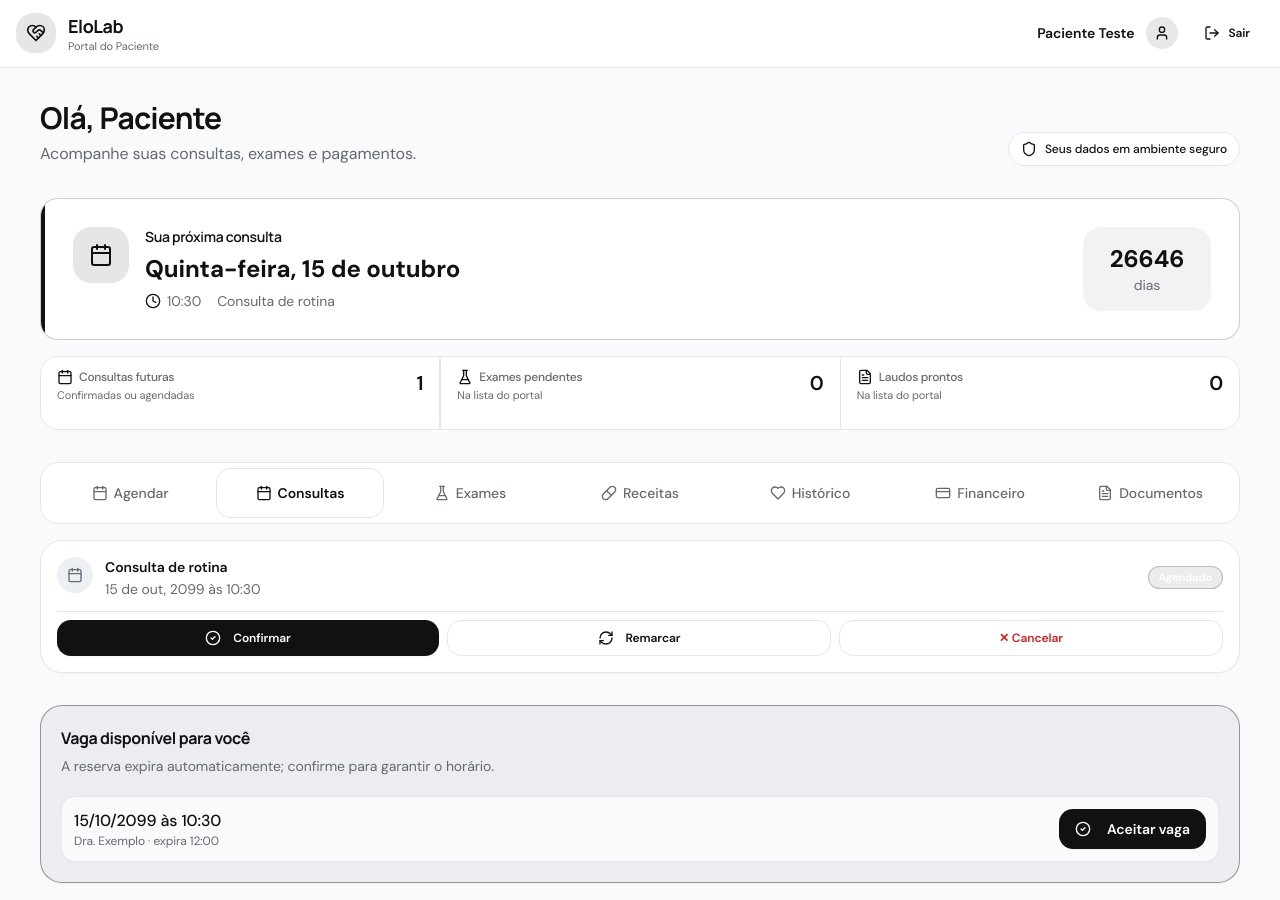
Scenario: PortalPaciente — cancelamento de consulta › informa quando a vaga já expirou e mantém a ação disponível
Click the button "Aceitar vaga" at (1132, 828), box [1059,808,1206,848]
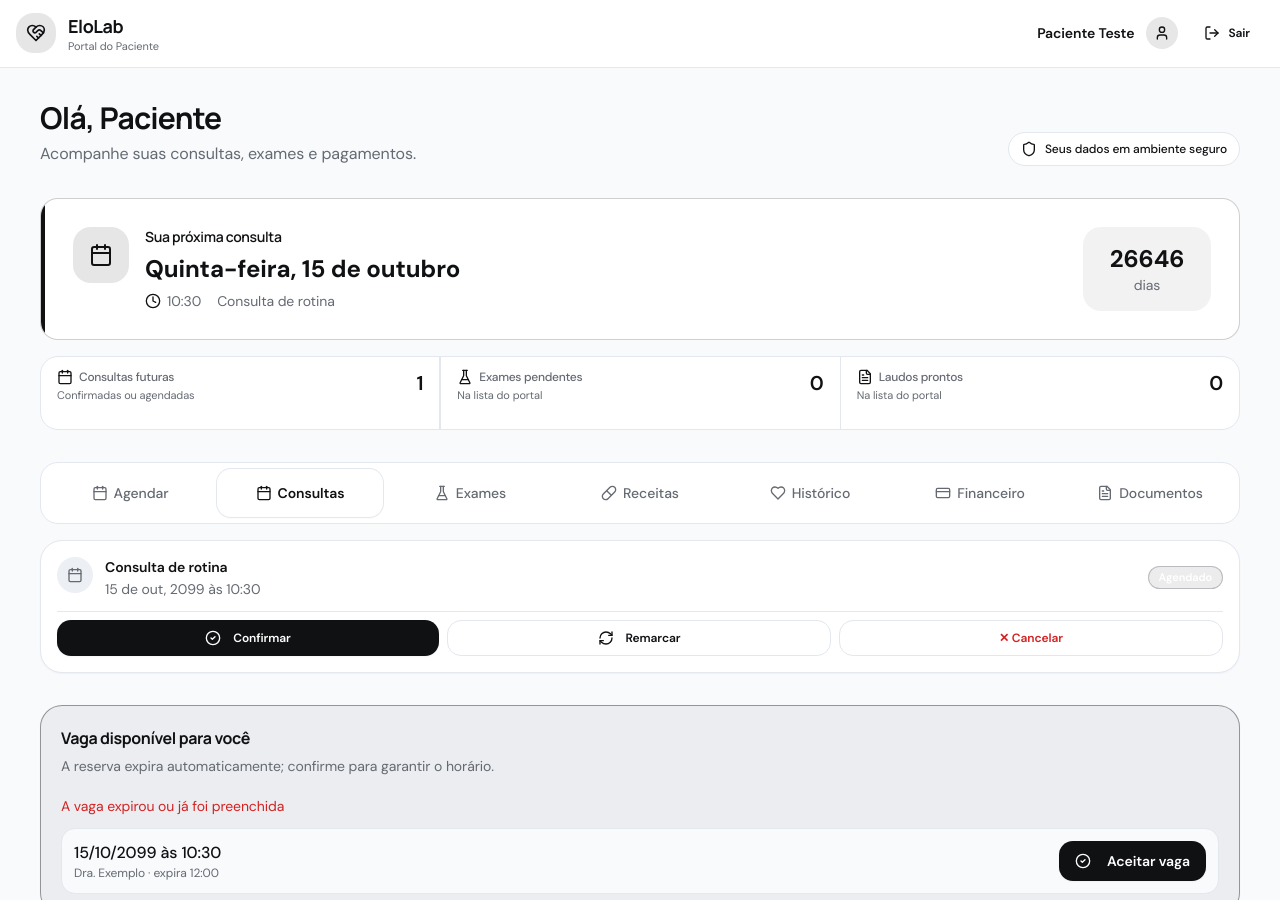
Expected: the button "Aceitar vaga" is enabled, [1059,840,1206,880]
Expected: the message reads "A vaga expirou ou já foi preenchida", [61,796,284,814]
